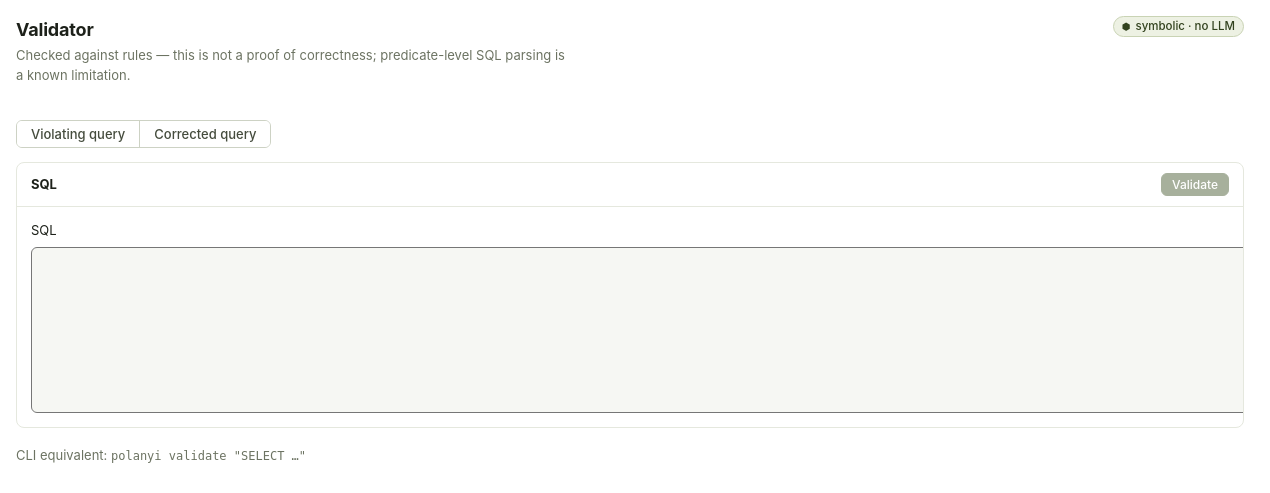
it: a non-SELECT statement shows the GUARD-DML blocked row
Step 1. Type "DELETE FROM trades" into the text box labelled "SQL" → [645, 330], box x1=31 y1=246 x2=1259 y2=412
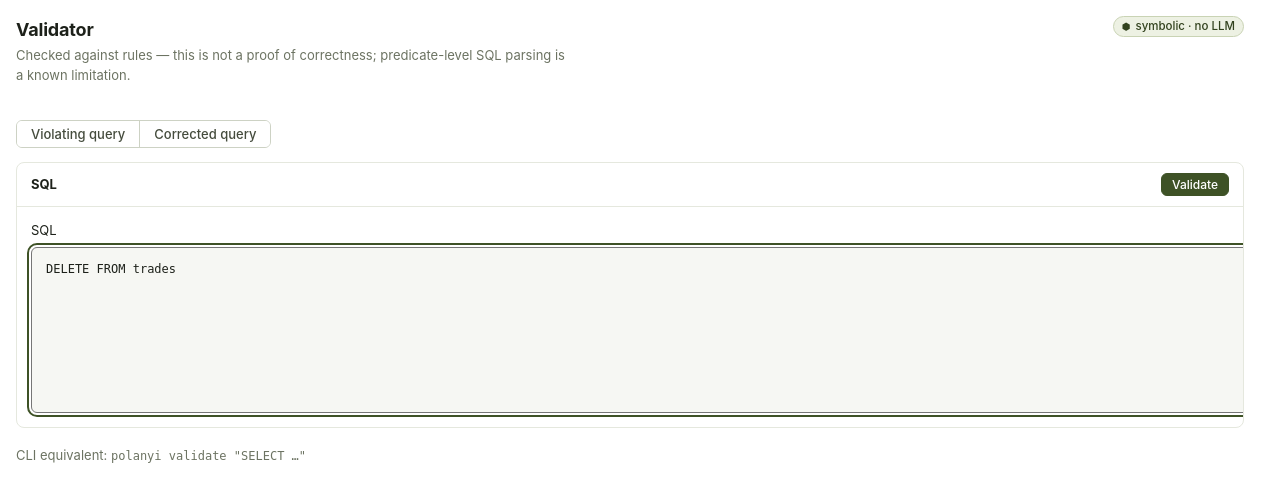
Step 2. Click the button "Validate" → [1195, 184], box x1=1161 y1=173 x2=1229 y2=196
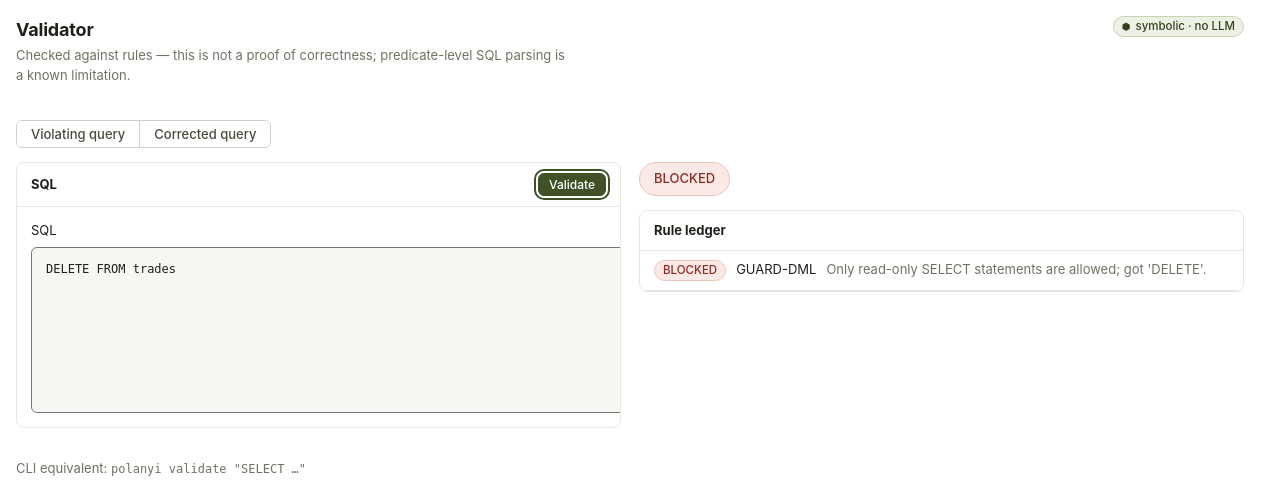
Check: the text "Only read-only SELECT statements are allowed; got 'DELETE'." is shown, box x1=826 y1=260 x2=1206 y2=280
